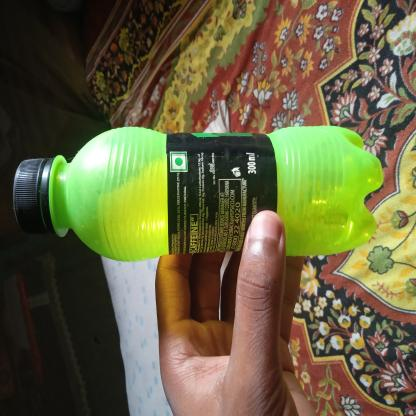bottle: (115, 18, 222, 416)
